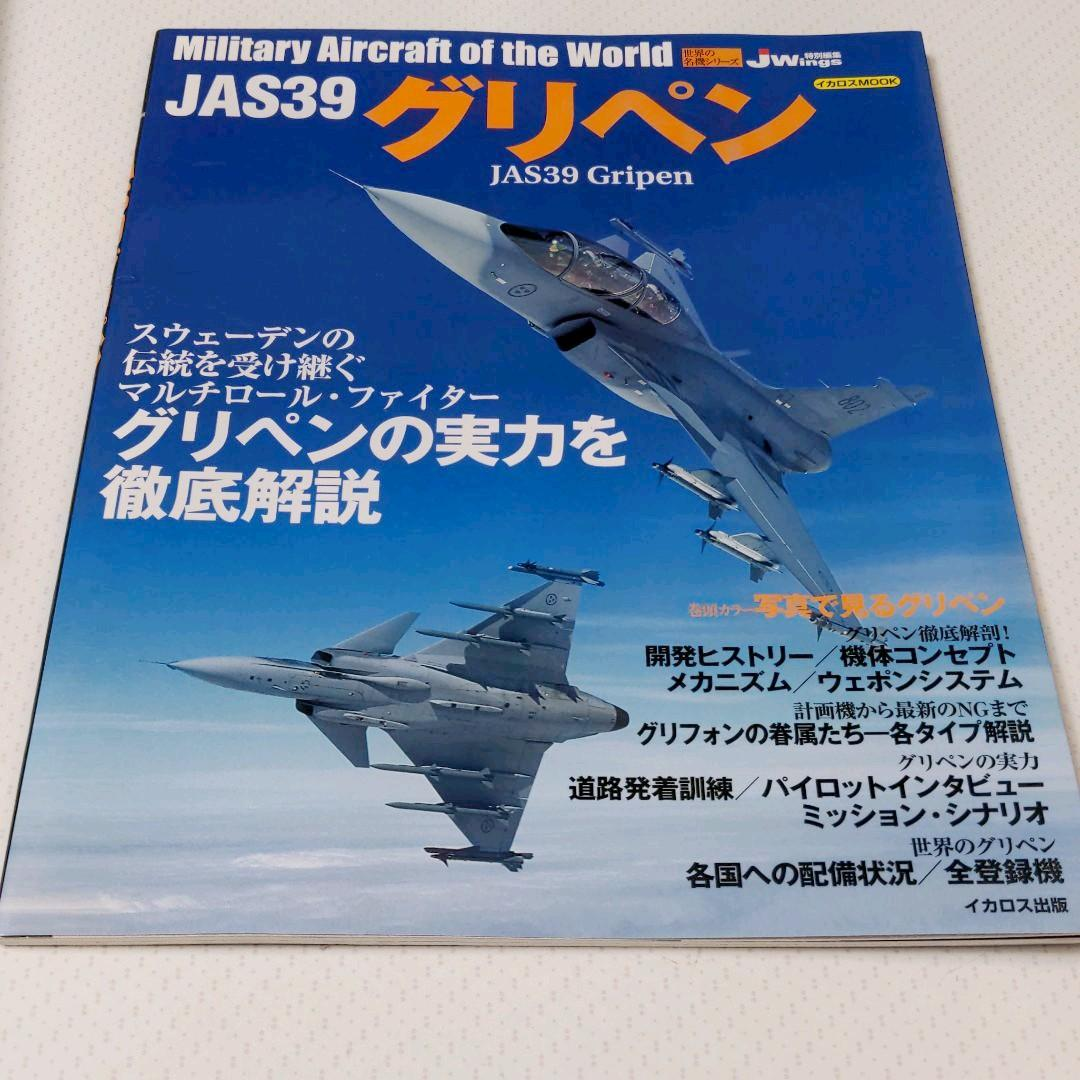JAS39: (327, 167, 935, 649), (136, 558, 629, 872)
